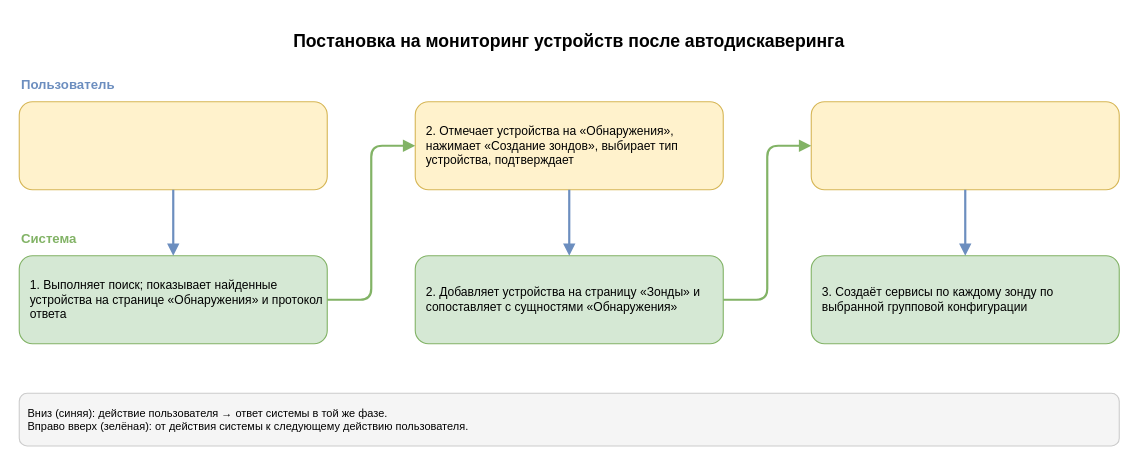
Image size: 1139x465. Some labels were removed from this diagram. The centre of each missing label's shape, as x and y in pixels:
"1. Задаёт критерии обнаружения устройств и включает периодический поиск" belongs at (x=172, y=145).
"3. Через групповое создание сервисов ставит зонды на мониторинг" belongs at (x=964, y=145).
